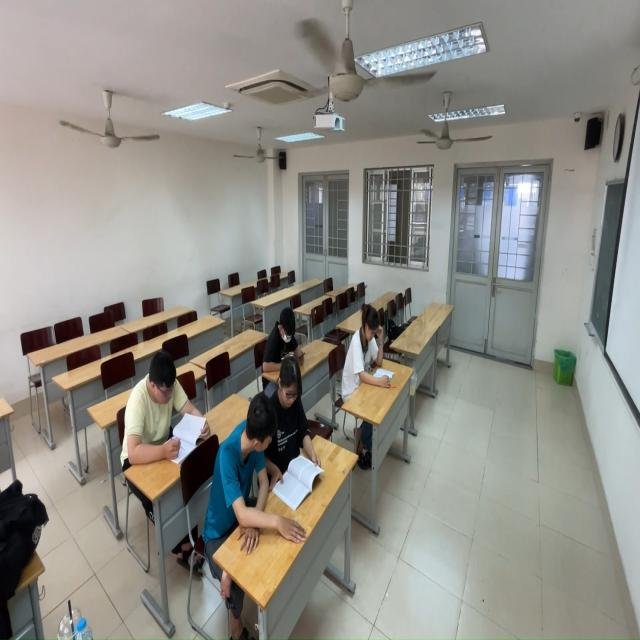read: (119, 345, 213, 472), (209, 393, 283, 548), (270, 355, 323, 487), (345, 303, 394, 402), (264, 306, 306, 368)
